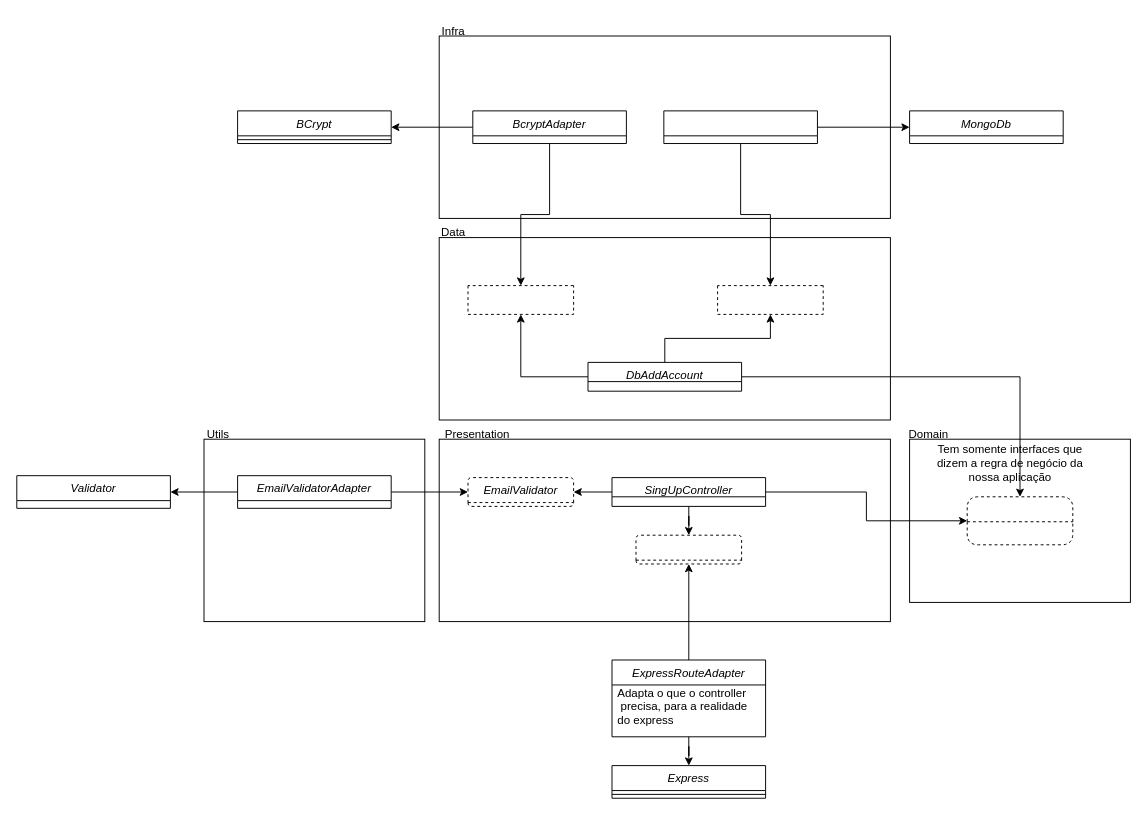
Image size: 1147x815. Some labels were removed from this diagram. The centre of each missing label's shape, as x and y in pixels:
AddAccount: point 1019,520
AddUserMongoRepo: point 740,127
AddUserRepo: point 770,299
Controller: point 688,549
Encrypter: point 520,299
